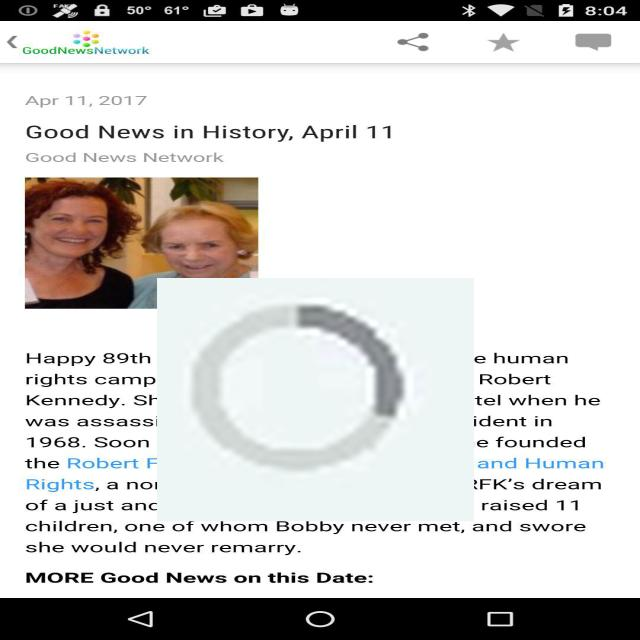misdirection: (157, 278, 474, 521)
